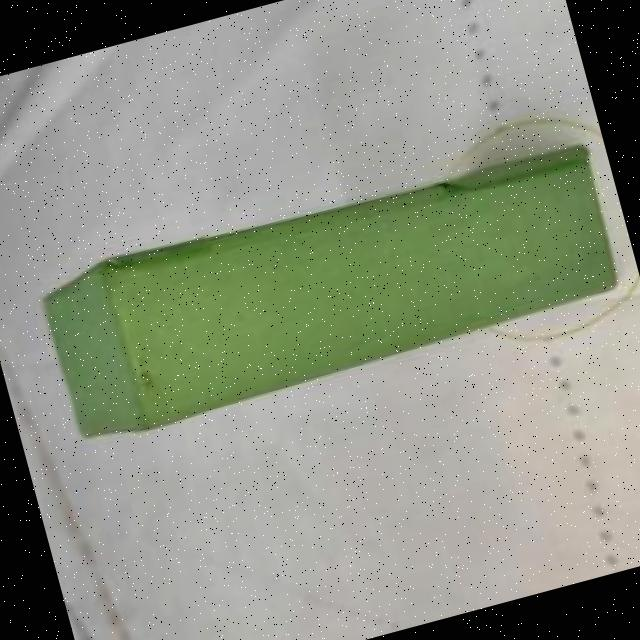greenbox: (29, 126, 626, 455)
